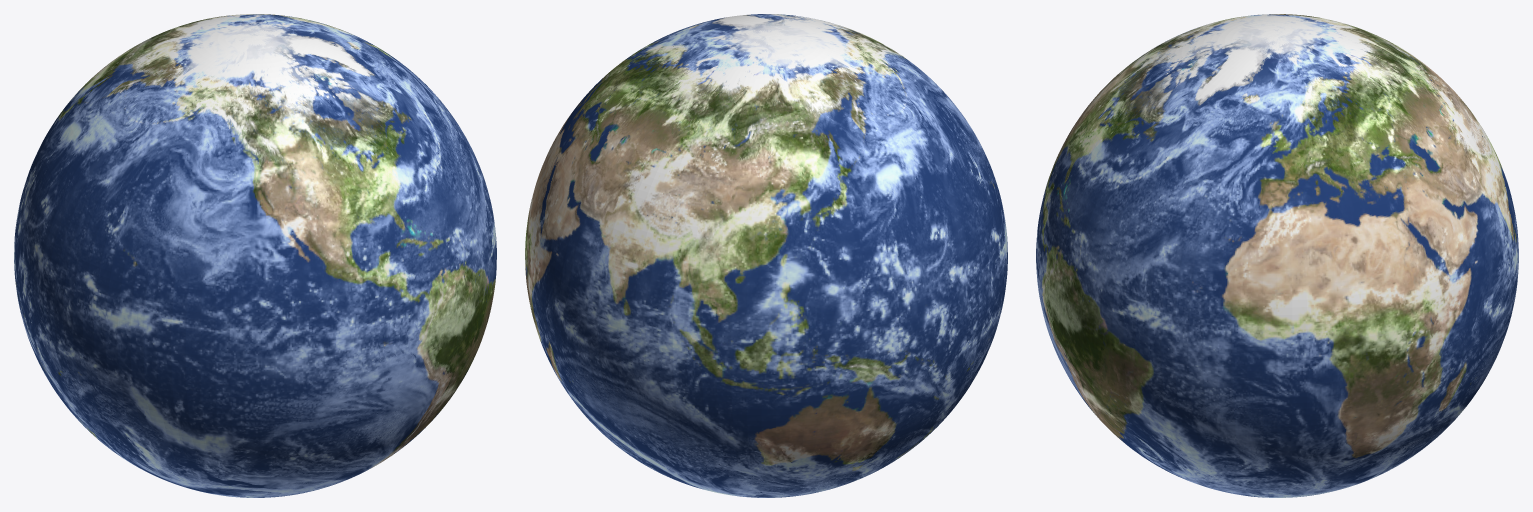
File: tierra.obj
3 renders of one model, left to right at view 1: azimuth 30°, elevation 25°; view 2: azimuth 150°, elevation 25°; view 3: azimuth 270°, elevation 25°, orthographic.
Visible parts, largest first — view 1: Earth_Sphere.002; view 2: Earth_Sphere.002; view 3: Earth_Sphere.002.
Boxes of the visible parts, x1,y1,x2,y2 form: Earth_Sphere.002: (14,14,496,497); Earth_Sphere.002: (525,14,1007,497); Earth_Sphere.002: (1036,14,1518,497).
Bounding box in the file's own units: 1.99 × 2 × 1.99.
Materials: 1 (1 with a texture image).
